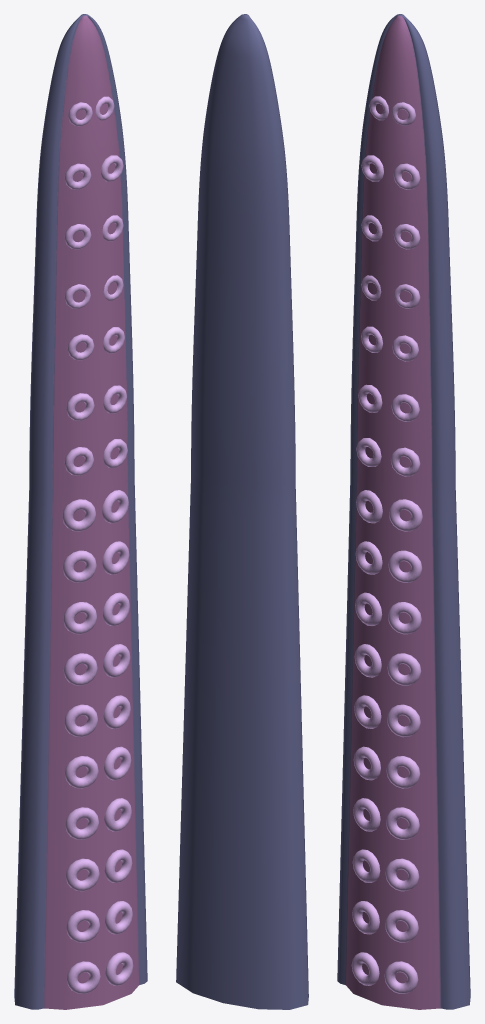
Rendered from Front atk.fbx.
The picture shows the model from 3 angles, left to right: view 1: azimuth 30°, elevation 25°; view 2: azimuth 150°, elevation 25°; view 3: azimuth 330°, elevation 25°; orthographic projection.
Parts seen in each view (by area): view 1: front atk tentacle.001, suction cup; view 2: front atk tentacle.001; view 3: front atk tentacle.001, suction cup.
Boxes of the visible parts, left/top/right/bottom form: front atk tentacle.001: left=14, top=14, right=147, bottom=1009; suction cup: left=62, top=96, right=133, bottom=993; front atk tentacle.001: left=176, top=14, right=308, bottom=1009; front atk tentacle.001: left=337, top=14, right=470, bottom=1009; suction cup: left=351, top=96, right=422, bottom=993.
Bounding box in the file's own units: 493 × 3492 × 284.
